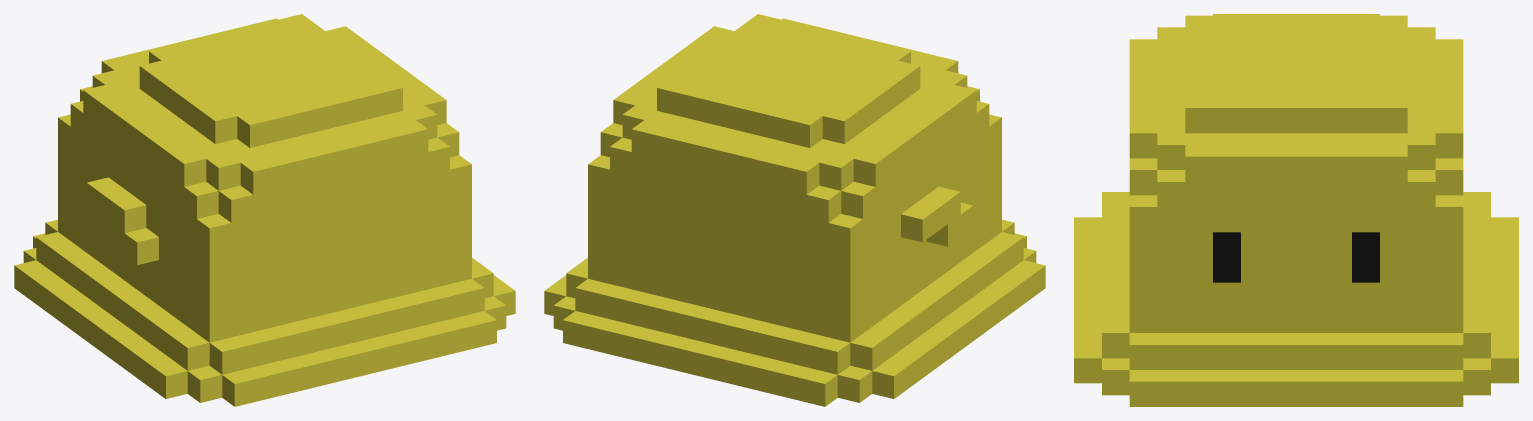
File: slime7.obj
3 views of the same model, side by side, from view 1: azimuth 30°, elevation 25°; view 2: azimuth 150°, elevation 25°; view 3: azimuth 270°, elevation 25° (orthographic). The views are drawn at different scales.
Bounding box in the file's own units: 1.6 × 1 × 1.6.
1 material, 1 textured.
